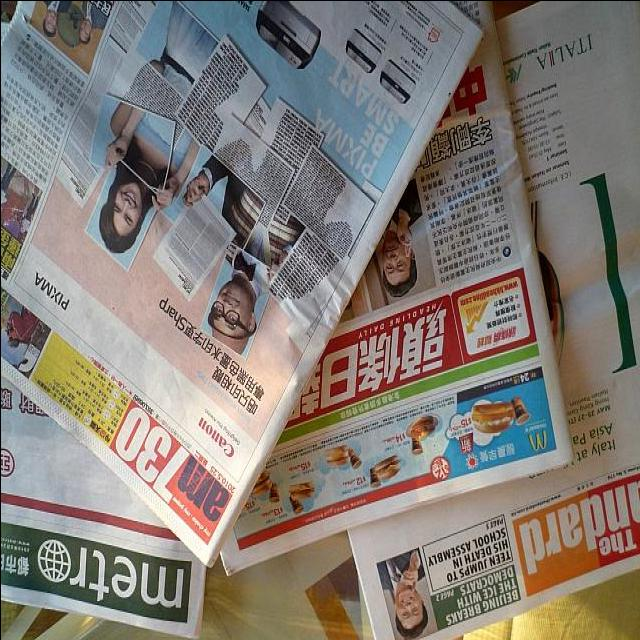newspaper: (0, 0, 446, 561), (195, 0, 571, 571), (363, 0, 640, 640), (0, 379, 205, 635)
